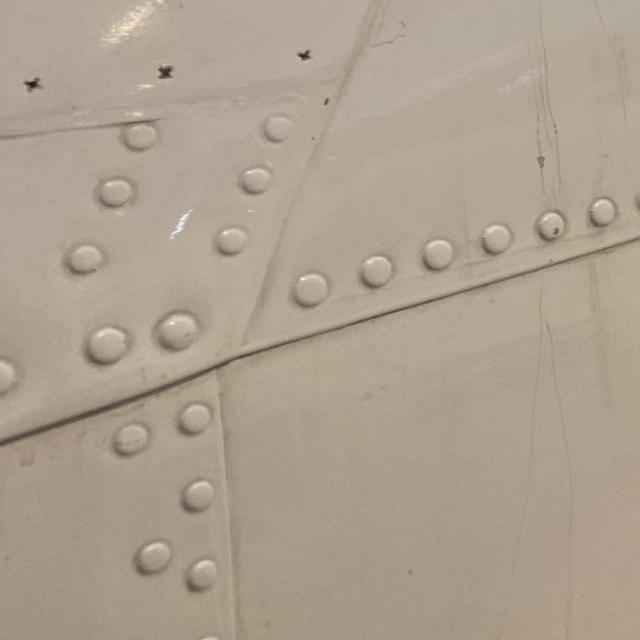Paint-off: (535, 154, 547, 176)
